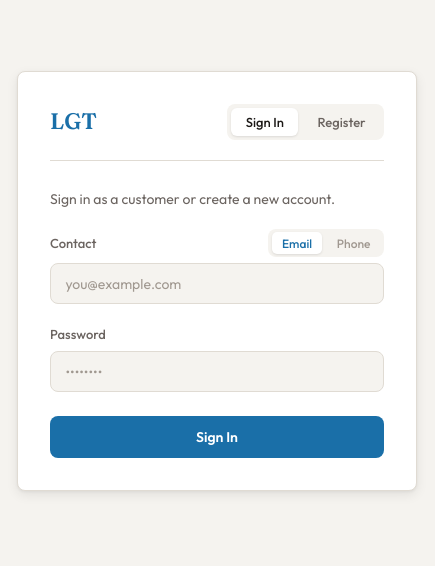
Test case: AuthPage — password validation (register mode) › shows error when password is too short
The width and height of the screenshot is (435, 566).
Click the button "Register": coordinates (342, 122) left=303, top=108, right=380, bottom=136
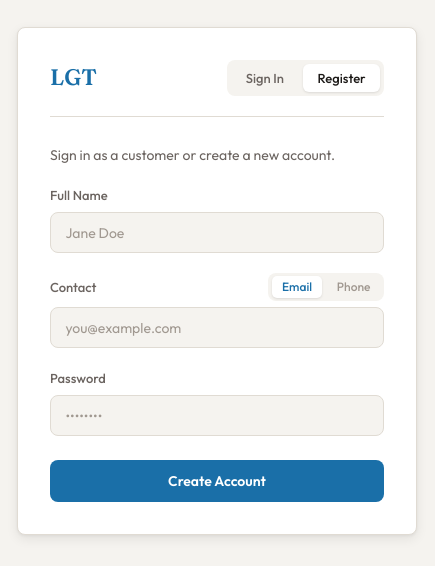
In the field with placeholder "Jane Doe": coordinates (217, 233) left=50, top=212, right=384, bottom=253, type "Jane"
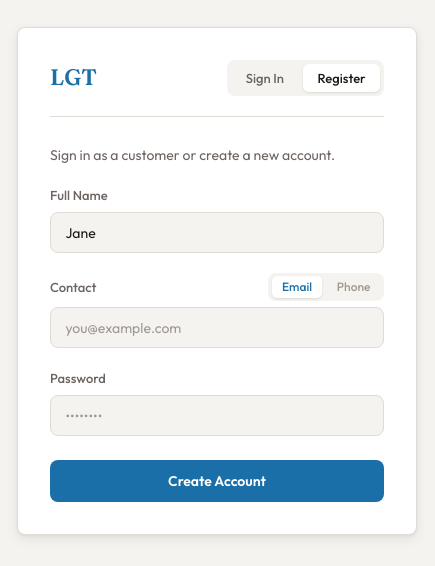
In the field with placeholder "you@example.com": coordinates (217, 328) left=50, top=307, right=384, bottom=348, type "test@test.com"
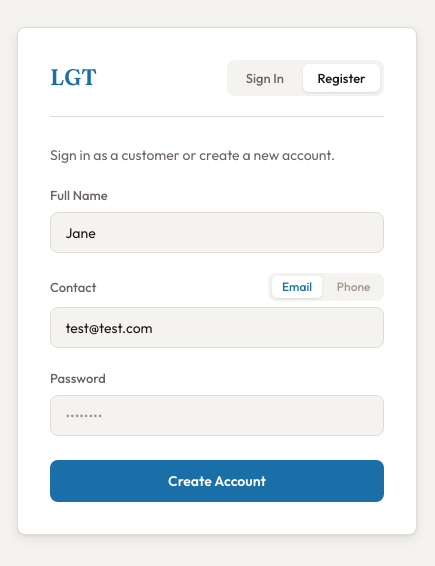
In the password field with placeholder "••••••••": coordinates (217, 416) left=50, top=395, right=384, bottom=436, type "abc"
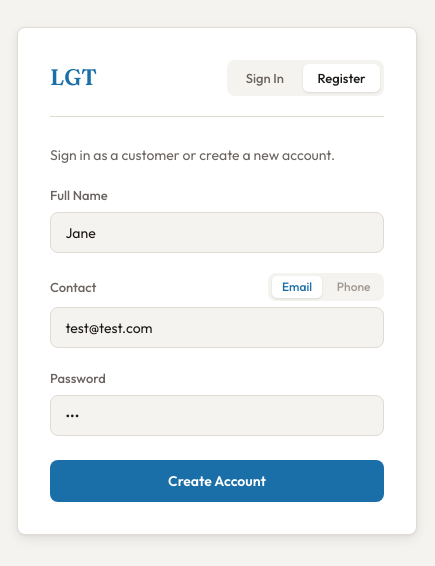
Click the button "Create Account": coordinates (217, 481) left=50, top=460, right=384, bottom=502
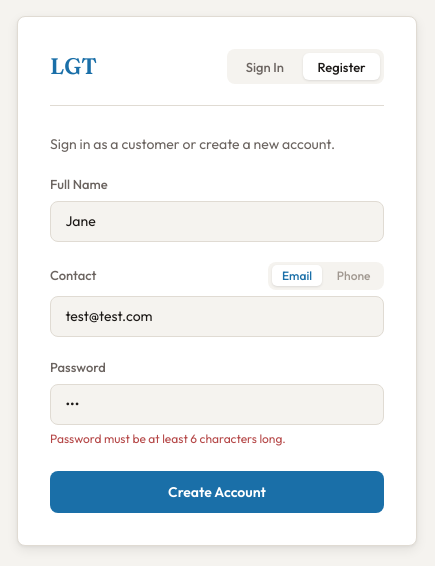
Now the text "Password must be at least 6 characters long." is shown, box left=50, top=431, right=286, bottom=446
